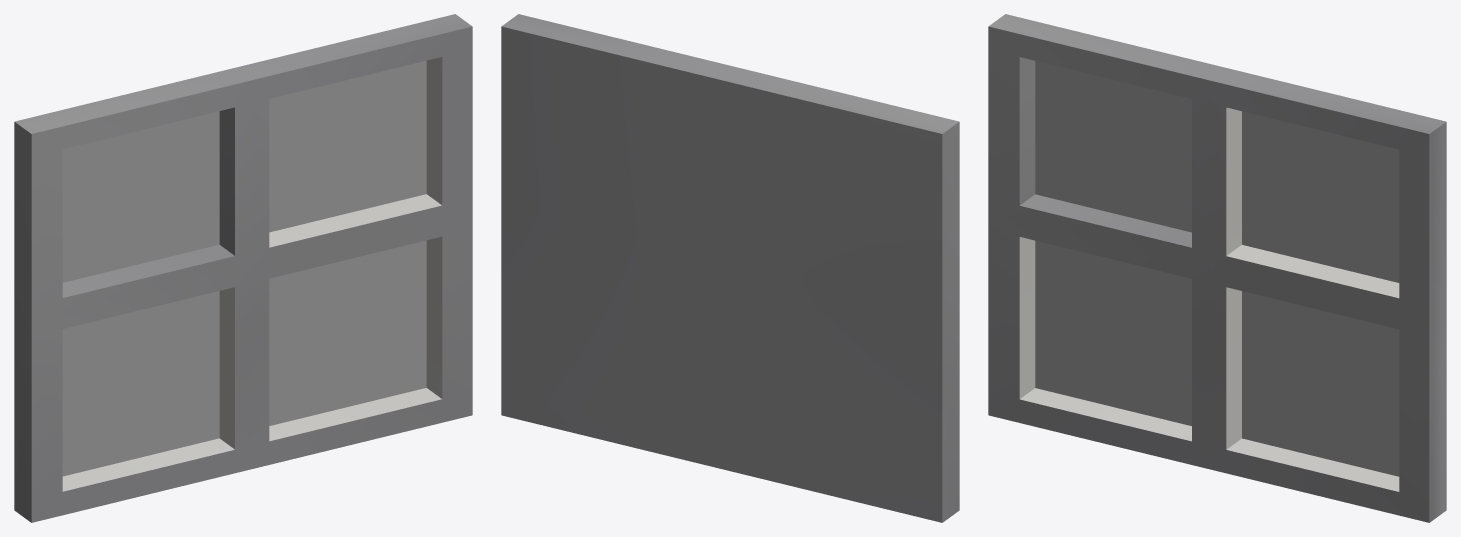
The model's file is obj_window_b.fbx.
The picture shows the model from 3 angles, left to right: view 1: azimuth 30°, elevation 25°; view 2: azimuth 150°, elevation 25°; view 3: azimuth 330°, elevation 25°; orthographic projection.
Parts seen in each view (by area): view 1: obj_window_b; view 2: obj_window_b; view 3: obj_window_b.
Boxes of the visible parts, x1=… form: obj_window_b: x1=14, y1=14, x2=472, y2=522; obj_window_b: x1=501, y1=14, x2=959, y2=522; obj_window_b: x1=988, y1=14, x2=1446, y2=522.
Size of the model in its own units: 1.28 by 1.08 by 0.0861.
2 materials, 1 textured.
